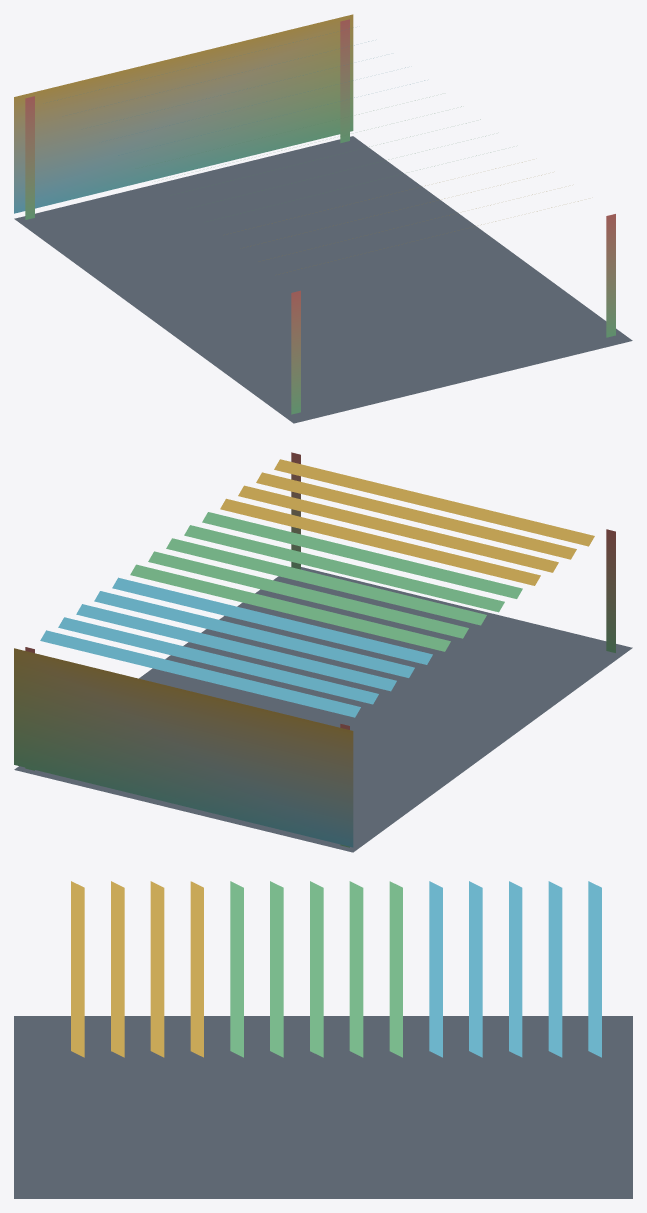
Rendered from sample_lattice.glb.
The picture shows the model from 3 angles, top to bottom: view 1: azimuth 30°, elevation 25°; view 2: azimuth 150°, elevation 25°; view 3: azimuth 270°, elevation 25°; orthographic projection. The views are drawn at different scales.
Parts seen in each view (by area): view 1: AtriumPavilion; view 2: AtriumPavilion; view 3: AtriumPavilion.
Boxes of the visible parts, box(x1,y1,x2,y2) form: AtriumPavilion: box(14, 14, 632, 423); AtriumPavilion: box(14, 452, 632, 852); AtriumPavilion: box(14, 881, 632, 1198).
Size of the model in its own units: 14 by 5.04 by 20.
